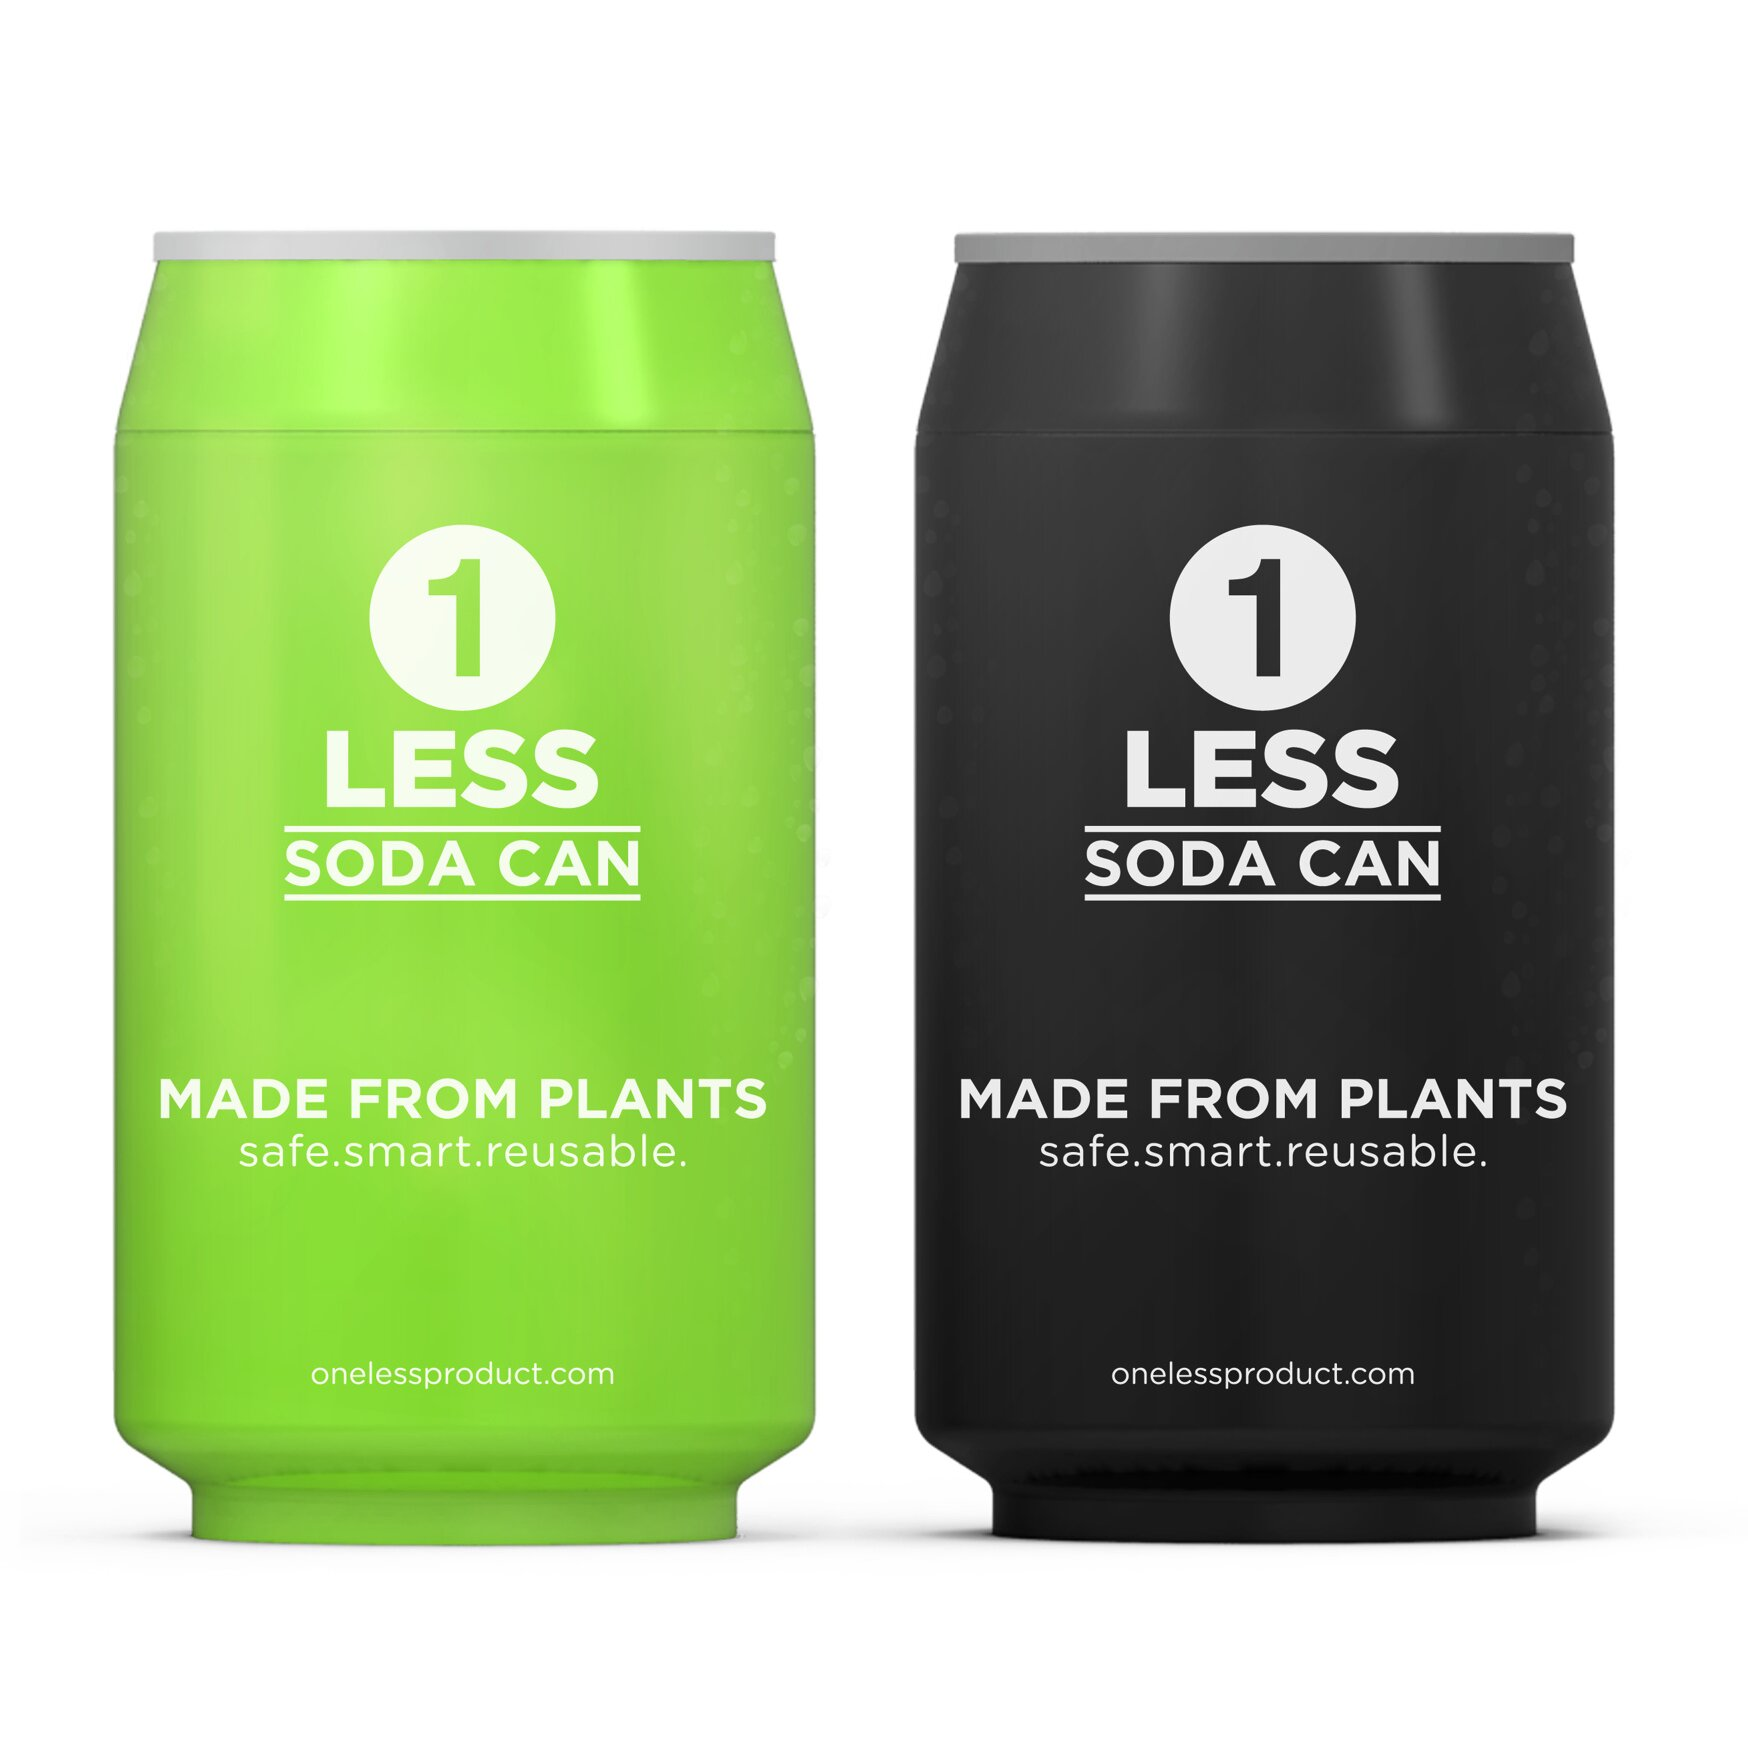Can: (107, 194, 816, 1551), (912, 194, 1606, 1542)
